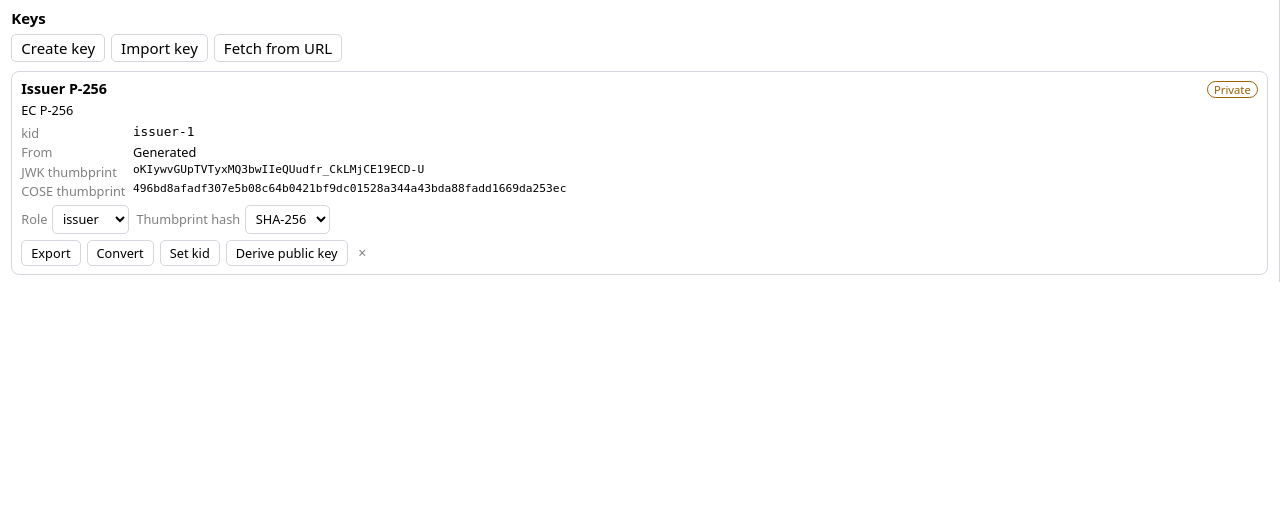
Scenario: key cards › derive public key adds a linked card
Click the button "Derive public key" at (287,253), box [226,240,348,266]
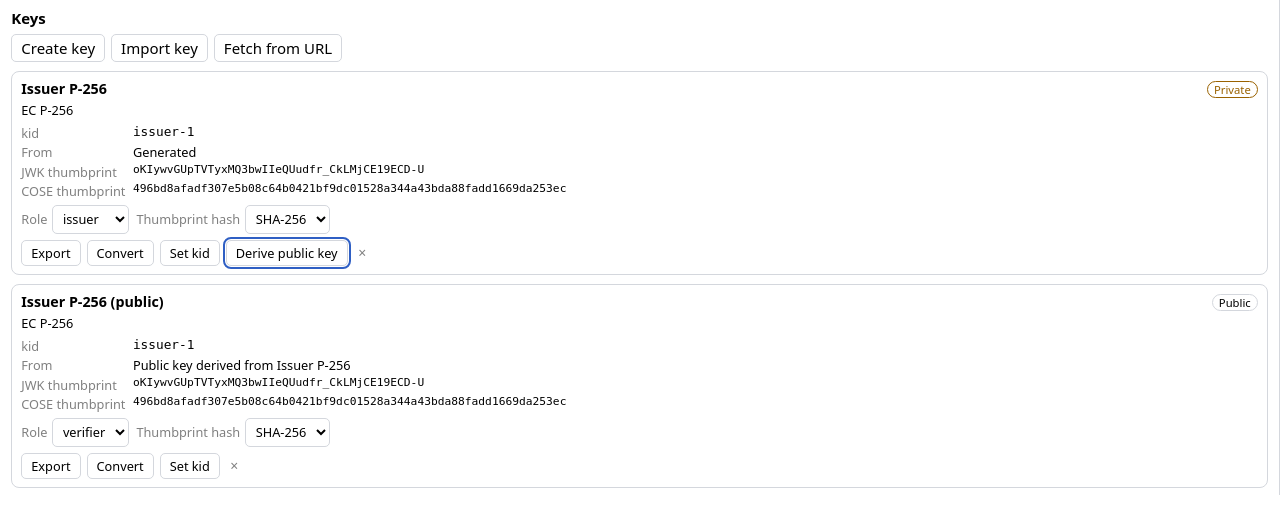
Expected: the element that starts with "Issuer P-256 (public)" shows "derived from Issuer P-256", [133,356,351,374]
